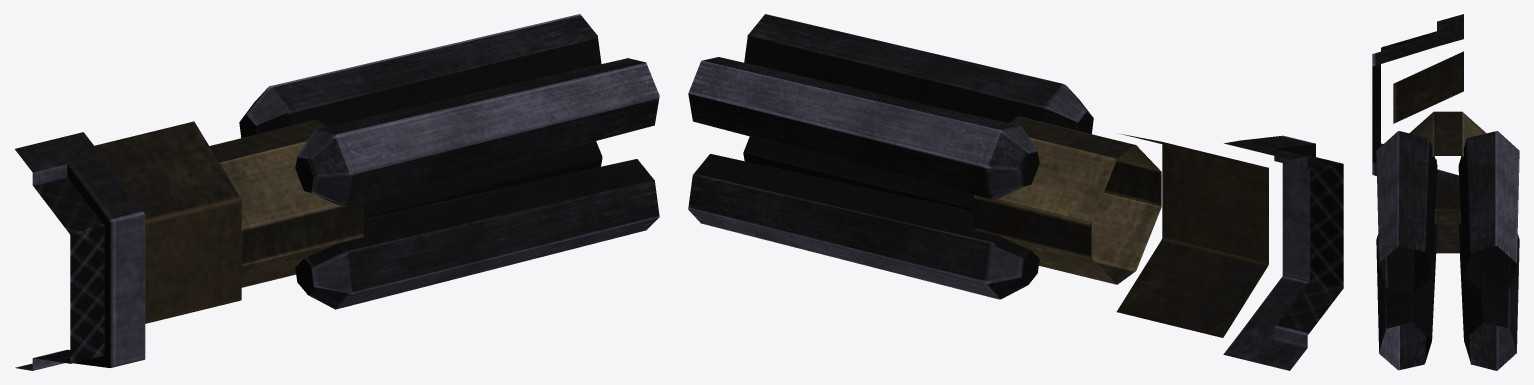
Rendered from v_nail2_8.obj.
3 views of the same model, side by side, from view 1: azimuth 30°, elevation 25°; view 2: azimuth 150°, elevation 25°; view 3: azimuth 270°, elevation 25° (orthographic). The views are drawn at different scales.
Size of the model in its own units: 30.2 by 10.75 by 8.82.
Materials: 1 (1 with a texture image).
